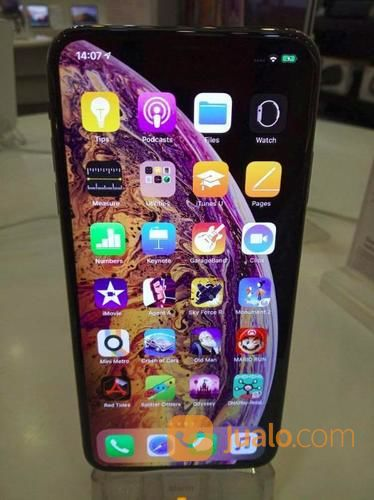Handphone: (44, 19, 323, 484)
